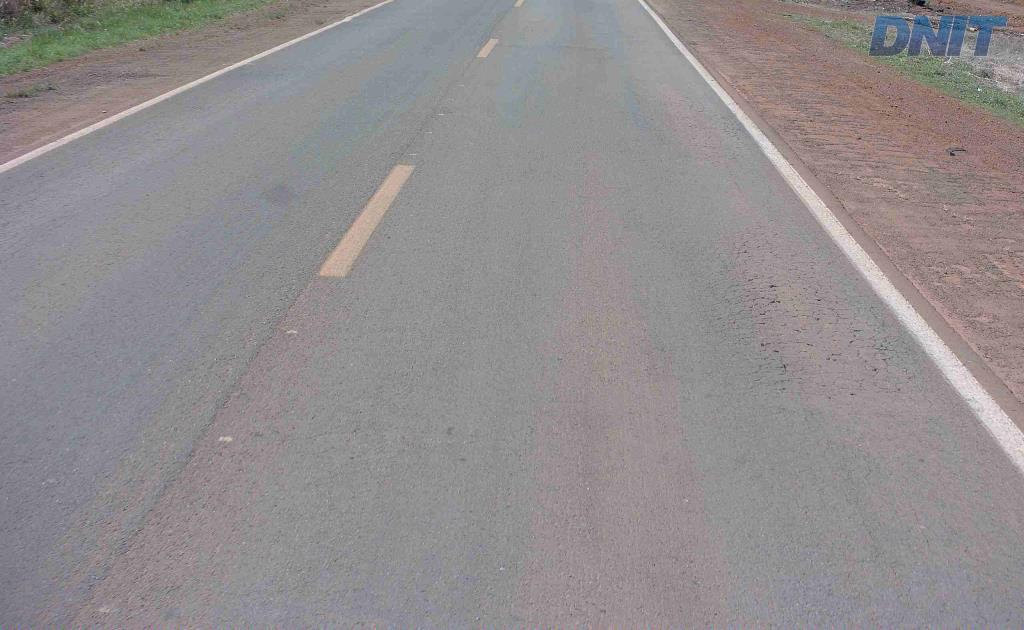crack: (727, 288, 781, 344)
